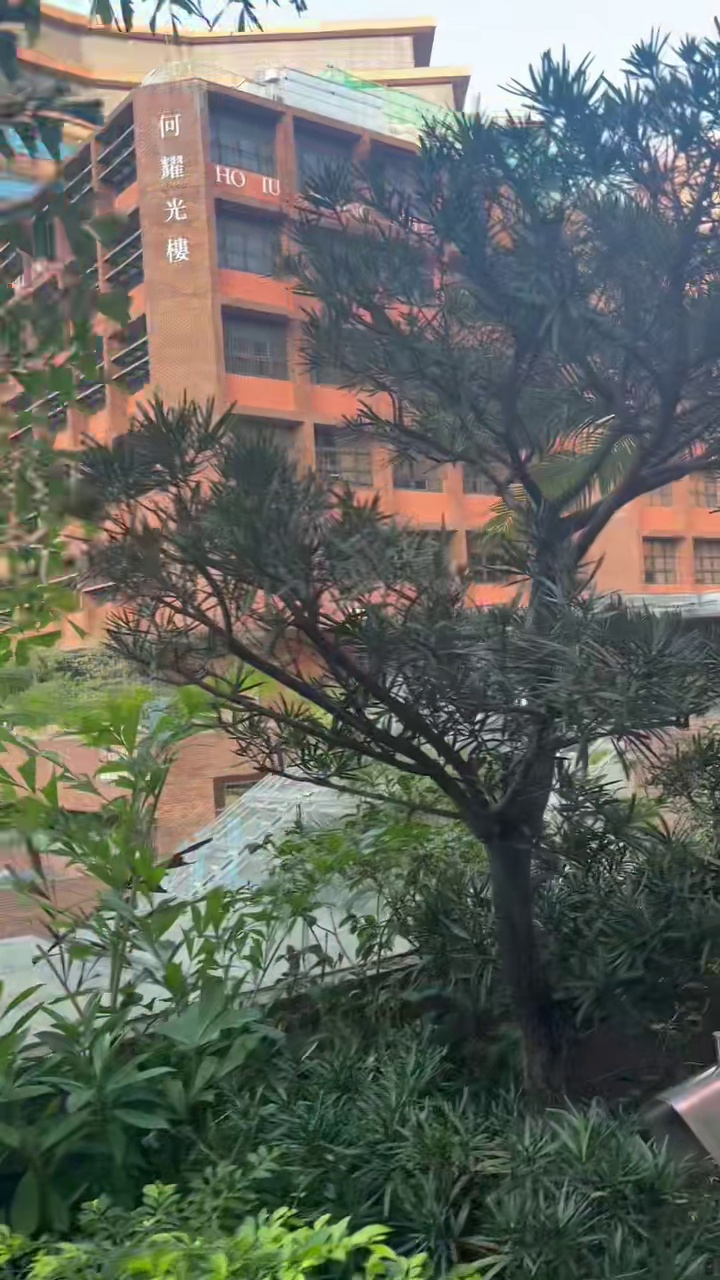Podocarpus macrophyllus: (81, 43, 719, 1083)
